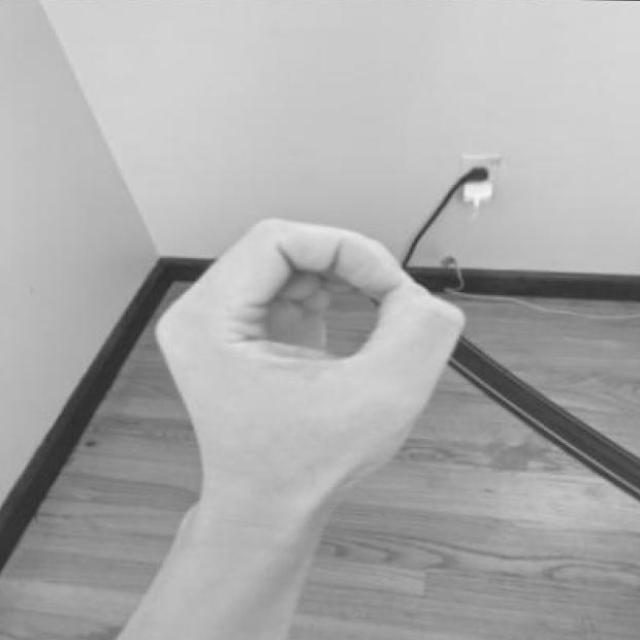O: (147, 201, 476, 549)
